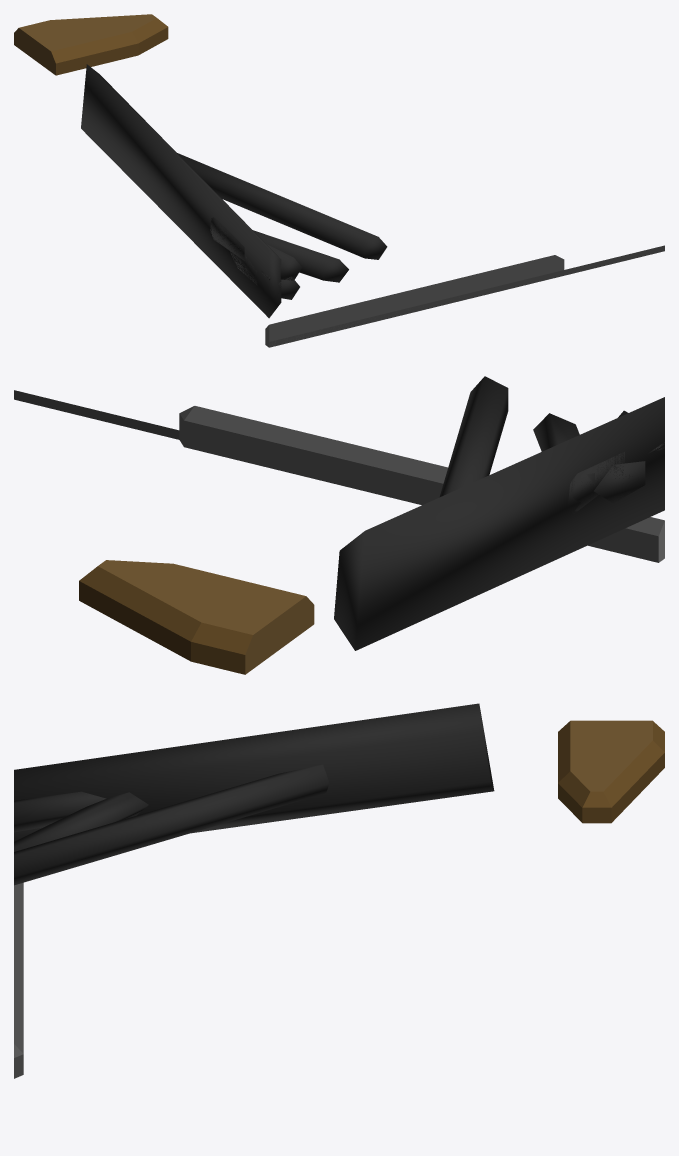
File: newshp-11.glb
The picture shows the model from 3 angles, top to bottom: view 1: azimuth 30°, elevation 25°; view 2: azimuth 150°, elevation 25°; view 3: azimuth 270°, elevation 25°; orthographic projection. The views are drawn at different scales.
Parts seen in each view (by area): view 1: newshp-11; view 2: newshp-11; view 3: newshp-11.
Boxes of the visible parts, <box> form: newshp-11: <box>14,14,664,347</box>; newshp-11: <box>14,376,664,674</box>; newshp-11: <box>14,703,664,1078</box>.
Size of the model in its own units: 2 by 0.7258 by 2.23.
